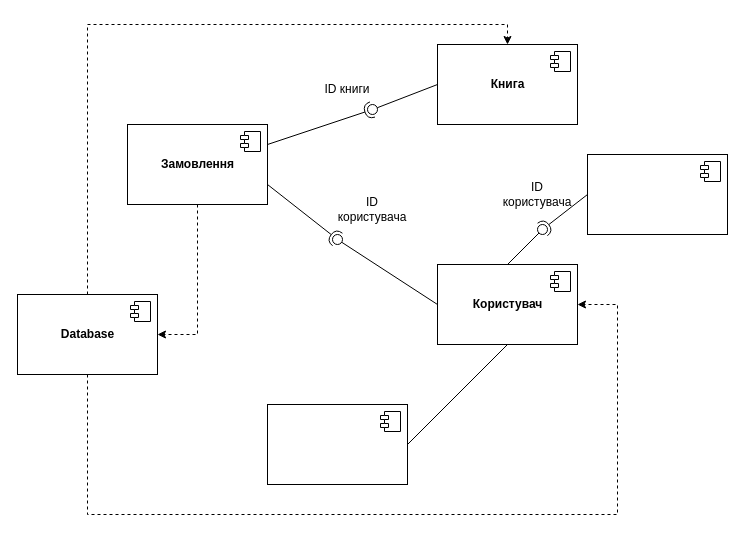
The diagram is 745 pixels wide and 540 high, and some of its shapes have lost their labels. The centre of each missing label's shape, as x and y in pixels:
Корзина: the point at 657,194
Обліковий запис: the point at 337,444
